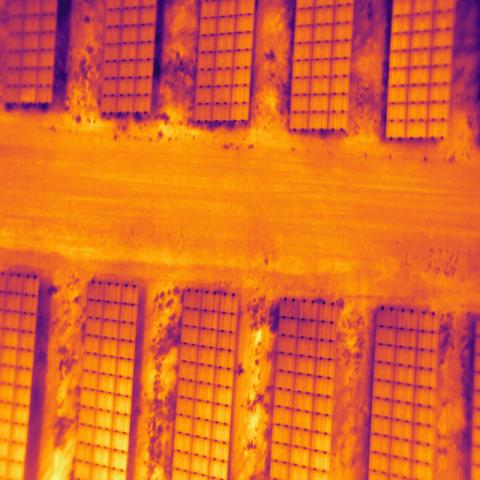fault: (20, 86, 36, 103)
